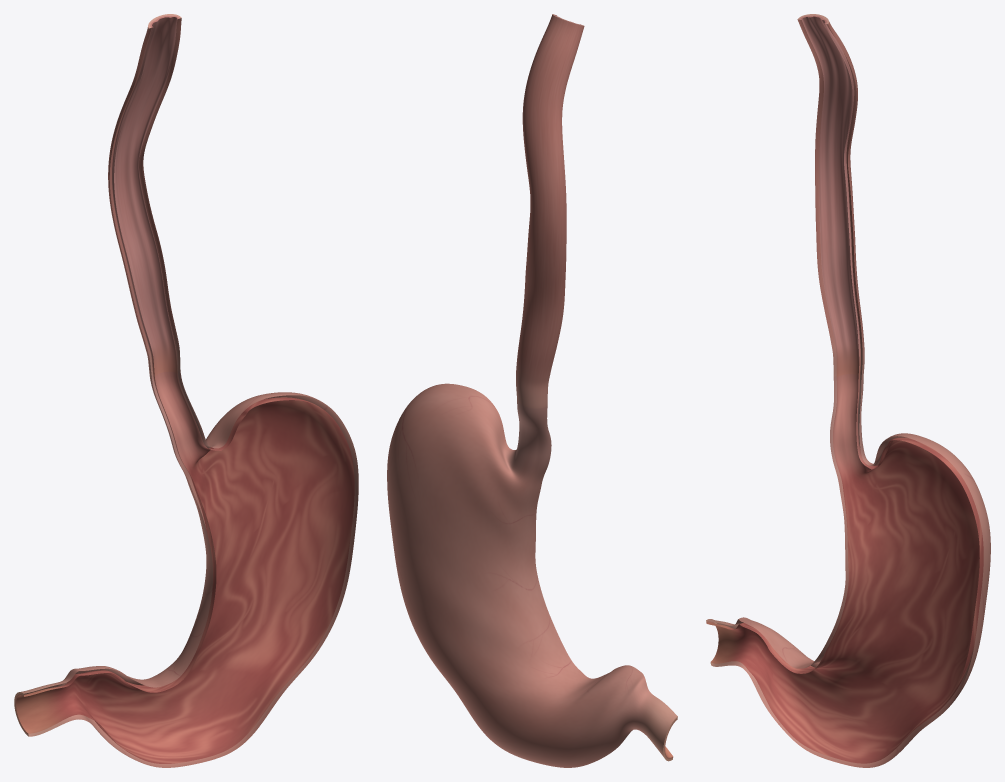
The model's file is opened.glb.
The picture shows the model from 3 angles, left to right: view 1: azimuth 30°, elevation 25°; view 2: azimuth 150°, elevation 25°; view 3: azimuth 330°, elevation 25°; orthographic projection. The views are drawn at different scales.
Visible parts, largest first — view 1: Display · 03 · 食管和胃纵剖; view 2: Display · 03 · 食管和胃纵剖; view 3: Display · 03 · 食管和胃纵剖.
Boxes of the visible parts, x1,y1,x2,y2 form: Display · 03 · 食管和胃纵剖: (14,14,358,767); Display · 03 · 食管和胃纵剖: (387,14,677,767); Display · 03 · 食管和胃纵剖: (706,14,990,767).
Size of the model in its own units: 0.1801 by 0.4181 by 0.0475.
Materials: 12 (12 with a texture image).
